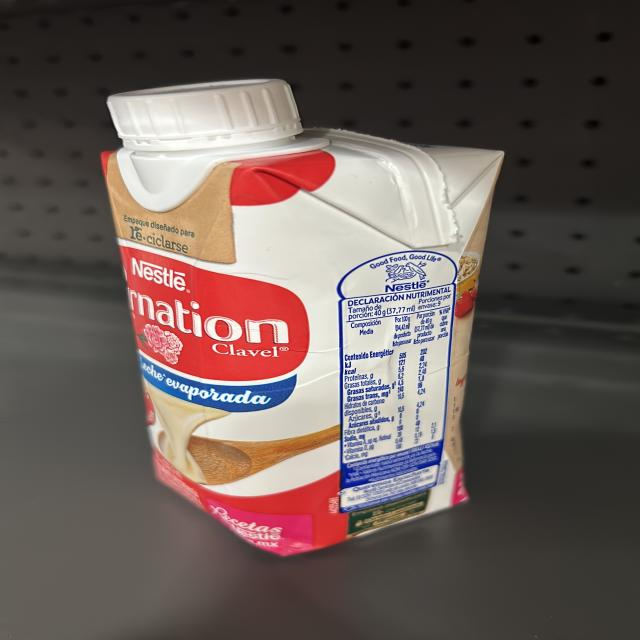maruchanRes: (92, 111, 504, 550)
